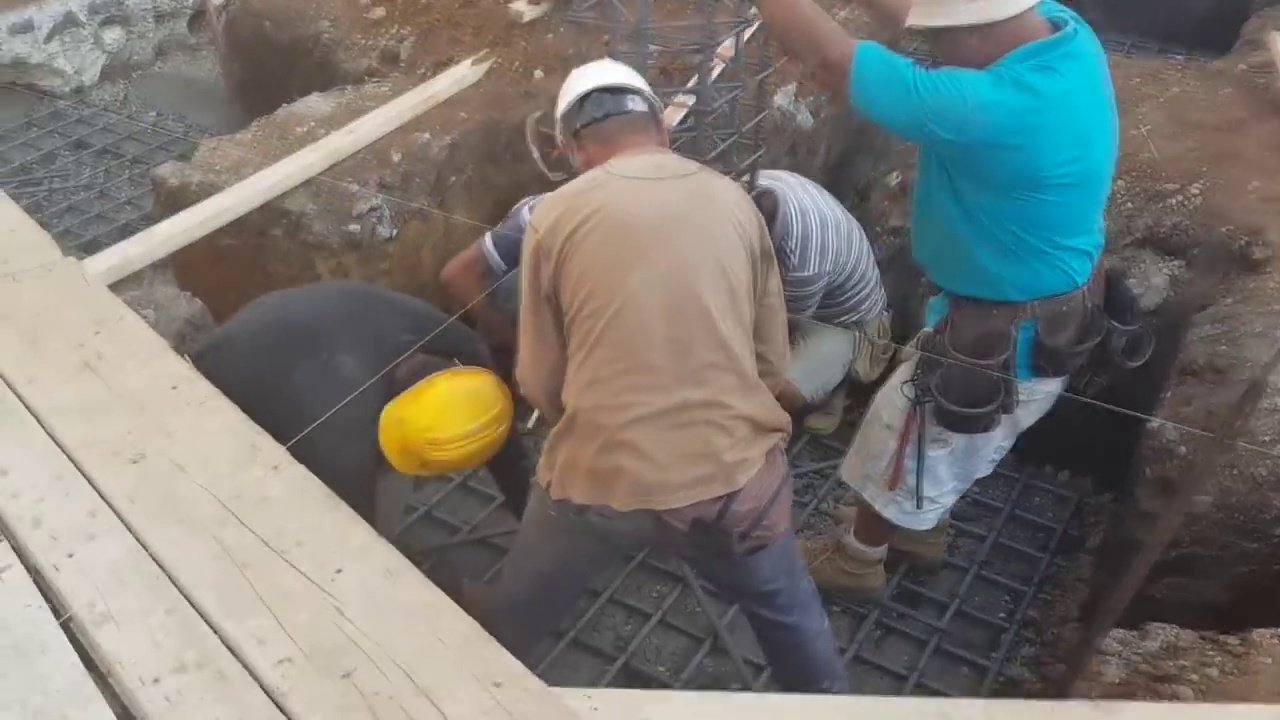helmet: (371, 371, 506, 484), (554, 47, 669, 145)
helmet-off: (891, 6, 1045, 70)
helmet-on: (361, 365, 523, 501), (549, 44, 678, 173)
person: (749, 0, 1128, 624), (448, 67, 844, 647), (137, 254, 569, 560), (747, 151, 885, 447)
